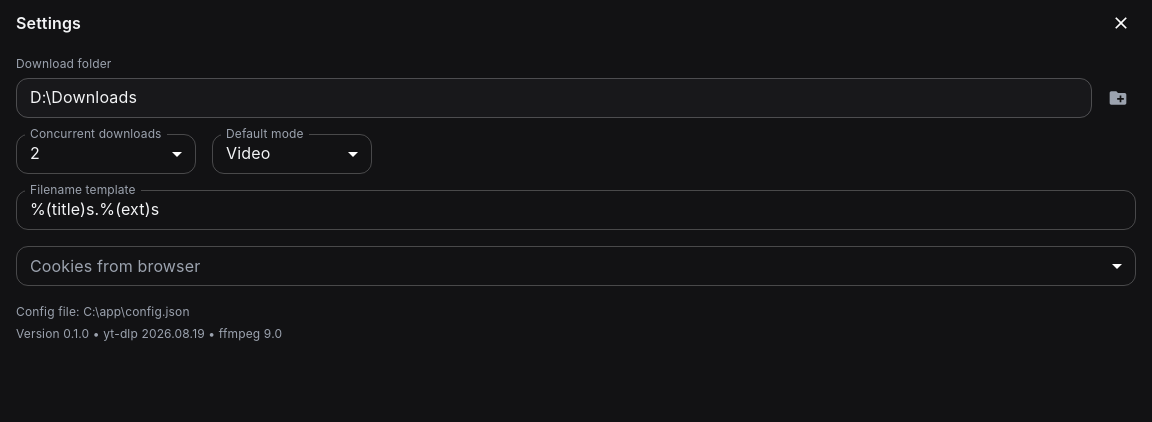
Test case: SettingsScreen › updates the download dir from the folder picker
Check: the field named "Download folder" is shown, box [16,78,1092,118]
Click the button named "choose folder": (1118, 98) [1100,80,1136,116]
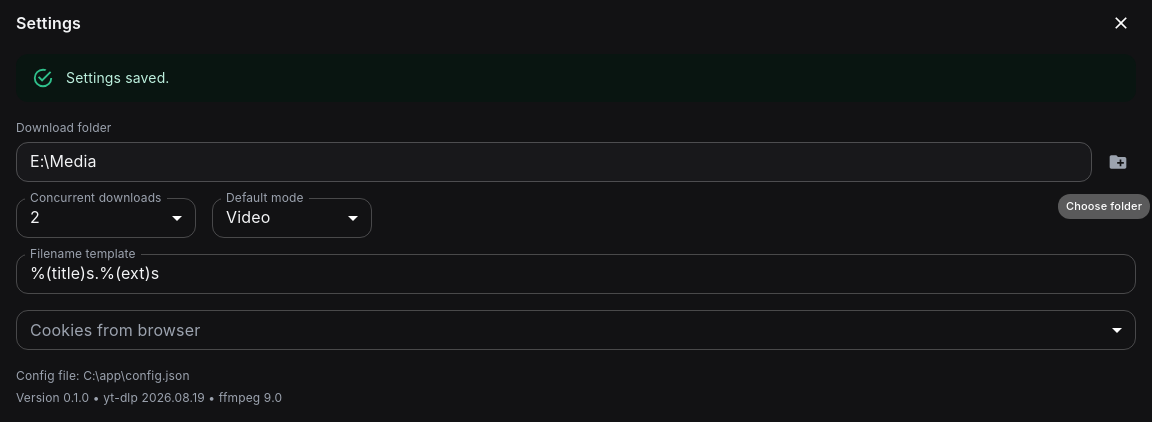
Check: the field named "Download folder" holds "E:\\Media", box [16,142,1092,182]
